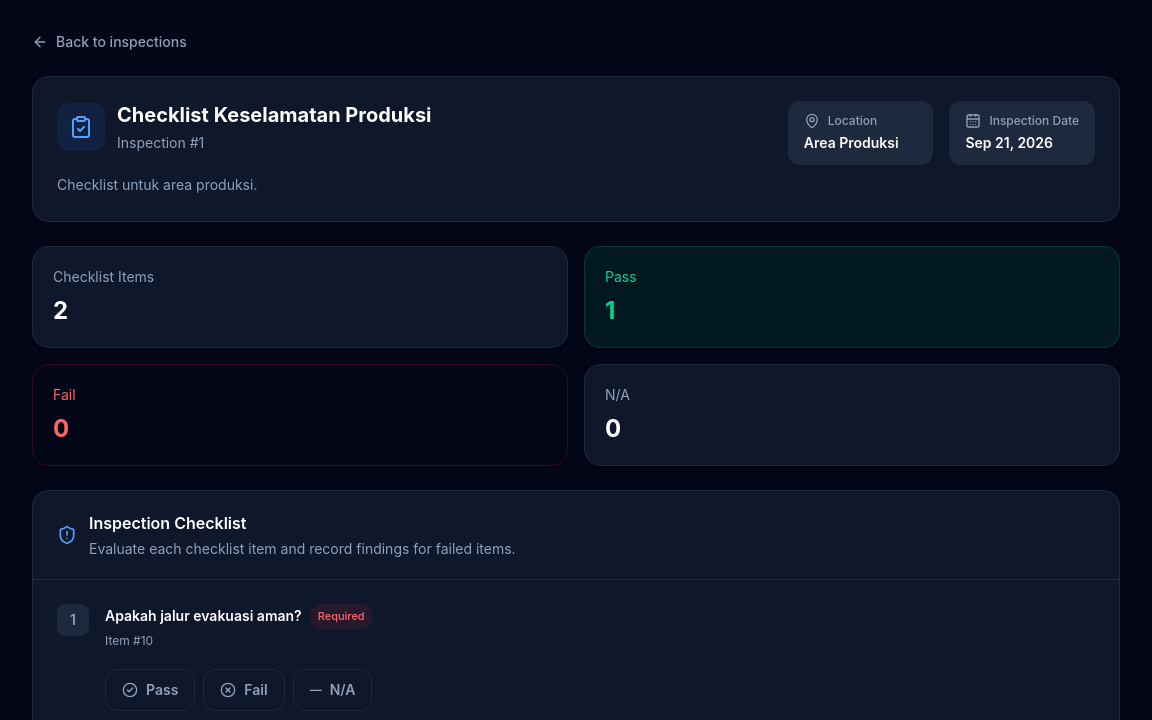
Test: InspectionDetail page › shows finding form when an item is marked as FAIL
Expected: the text "Apakah jalur evakuasi aman?" is shown, [105,604,302,628]
Click the button "Fail".
click(244, 690)  # box [203,668,285,710]
(page scrolled)
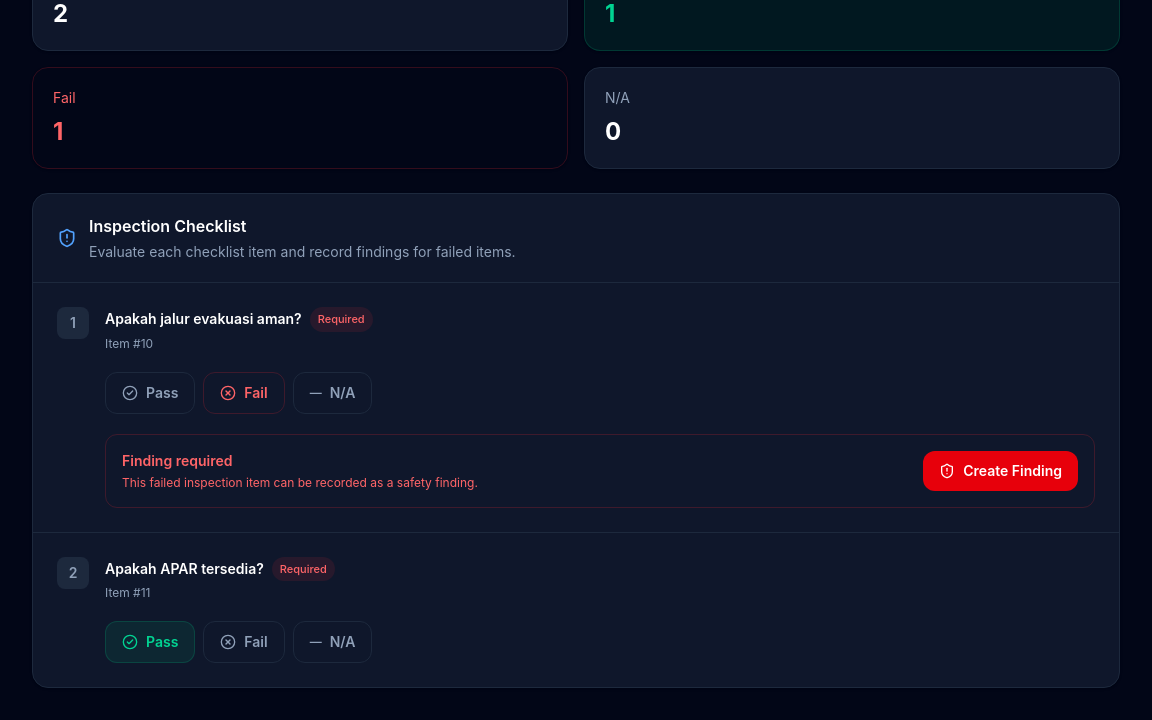
Result: the button "Create Finding" is shown at [923,450,1078,490]
